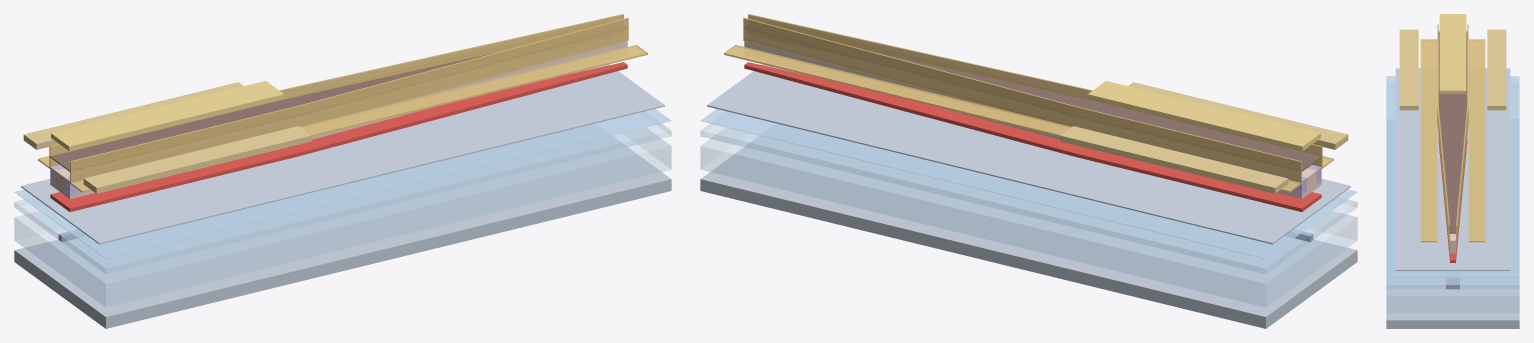
Rendered from stack-hetero-x.glb.
3 views of the same model, side by side, from view 1: azimuth 30°, elevation 25°; view 2: azimuth 150°, elevation 25°; view 3: azimuth 270°, elevation 25° (orthographic). The views are drawn at different scales.
Visible parts, largest first — view 1: sisub, ox, nlayer, sin, bond, mqw, nmetal, pmetal, cap, pinp; view 2: sisub, ox, nlayer, sin, bond, mqw, nmetal, pmetal, cap, pinp; view 3: nlayer, sisub, sin, bond, ox, nmetal, cap, pmetal, mqw, si, pinp.
Part boxes in pixels (bbox=[...]): sisub: bbox=[14, 124, 671, 328]; ox: bbox=[14, 123, 671, 307]; nlayer: bbox=[21, 64, 664, 244]; sin: bbox=[38, 14, 647, 192]; bond: bbox=[14, 109, 671, 258]; mqw: bbox=[50, 62, 627, 211]; nmetal: bbox=[23, 82, 311, 193]; pmetal: bbox=[51, 81, 284, 151]; cap: bbox=[50, 27, 626, 171]; pinp: bbox=[50, 38, 627, 198]; sisub: bbox=[700, 124, 1357, 328]; ox: bbox=[700, 123, 1357, 307]; nlayer: bbox=[707, 64, 1350, 244]; sin: bbox=[724, 14, 1333, 192]; bond: bbox=[700, 109, 1357, 258]; mqw: bbox=[744, 62, 1321, 211]; nmetal: bbox=[1060, 82, 1348, 193]; pmetal: bbox=[1087, 81, 1320, 151]; cap: bbox=[745, 27, 1321, 171]; pinp: bbox=[744, 38, 1321, 198]; nlayer: bbox=[1395, 68, 1510, 270]; sisub: bbox=[1386, 119, 1519, 328]; sin: bbox=[1420, 24, 1485, 242]; bond: bbox=[1386, 76, 1519, 277]; ox: bbox=[1386, 278, 1519, 312]; nmetal: bbox=[1399, 29, 1506, 110]; cap: bbox=[1438, 31, 1467, 233]; pmetal: bbox=[1439, 14, 1466, 93]; mqw: bbox=[1438, 138, 1467, 262]; si: bbox=[1446, 271, 1459, 289]; pinp: bbox=[1449, 233, 1456, 253].
Bounding box in the file's own units: 50 × 13.14 × 14.
